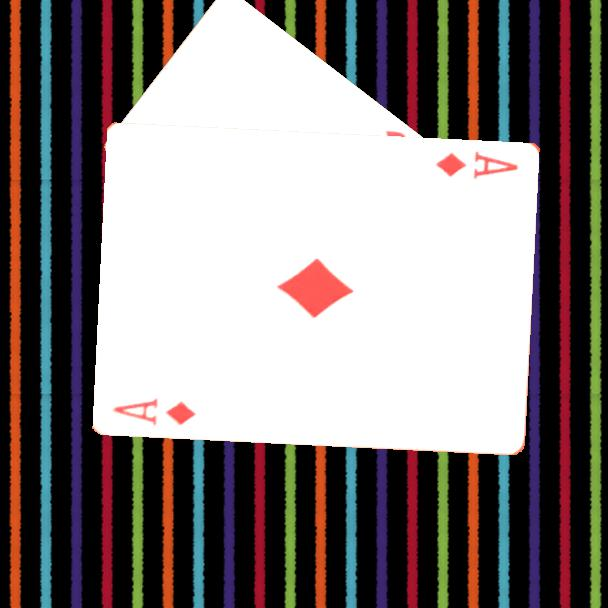d01: (432, 147, 521, 182), (109, 394, 199, 428)
